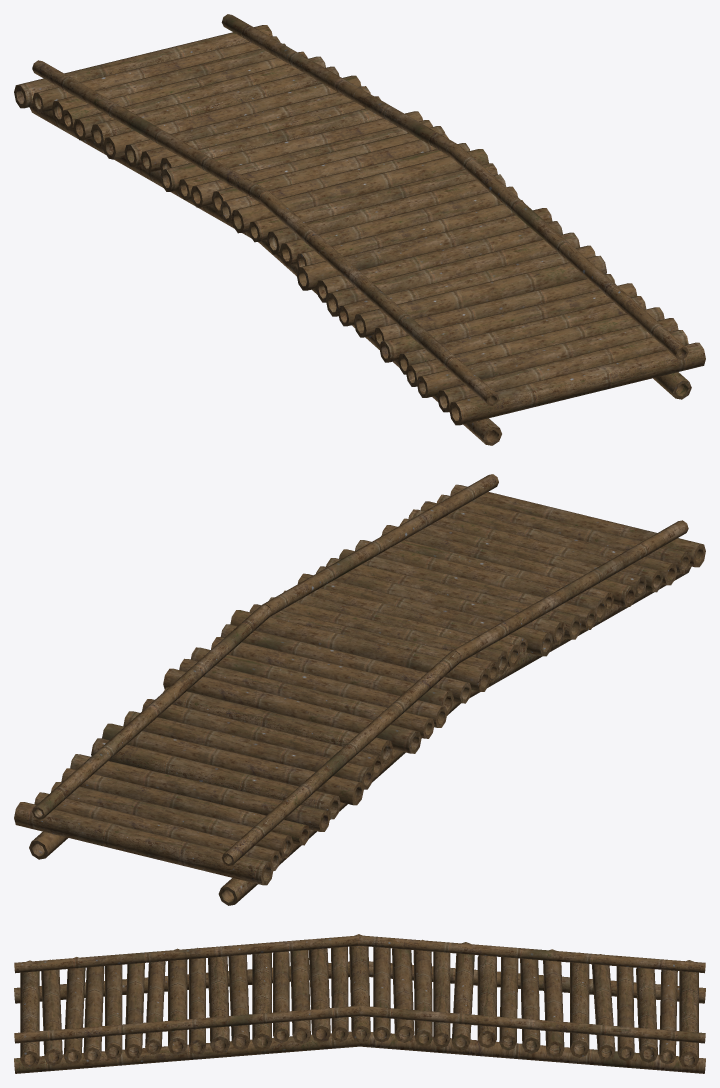
File: SM_Bridge01b.fbx
3 views of the same model, one above another, from view 1: azimuth 30°, elevation 25°; view 2: azimuth 150°, elevation 25°; view 3: azimuth 270°, elevation 25° (orthographic). The views are drawn at different scales.
Visible parts, largest first — view 1: SM_Bridge01b; view 2: SM_Bridge01b; view 3: SM_Bridge01b.
Part boxes in pixels (box(x1,y1,x2,y2)): SM_Bridge01b: box(14, 14, 705, 445); SM_Bridge01b: box(14, 474, 705, 905); SM_Bridge01b: box(14, 934, 705, 1073).
Bounding box in the file's own units: 158 × 499 × 53.92.
Materials: 1 (1 with a texture image).
